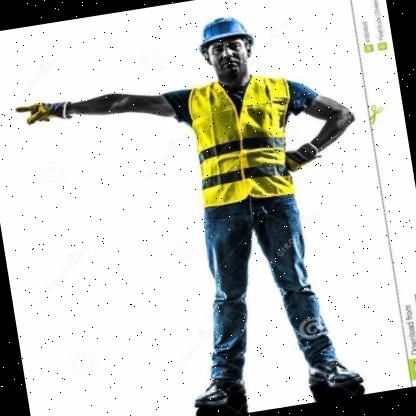bota: (300, 351, 369, 397), (188, 375, 252, 414)
capacete: (184, 11, 258, 53)
